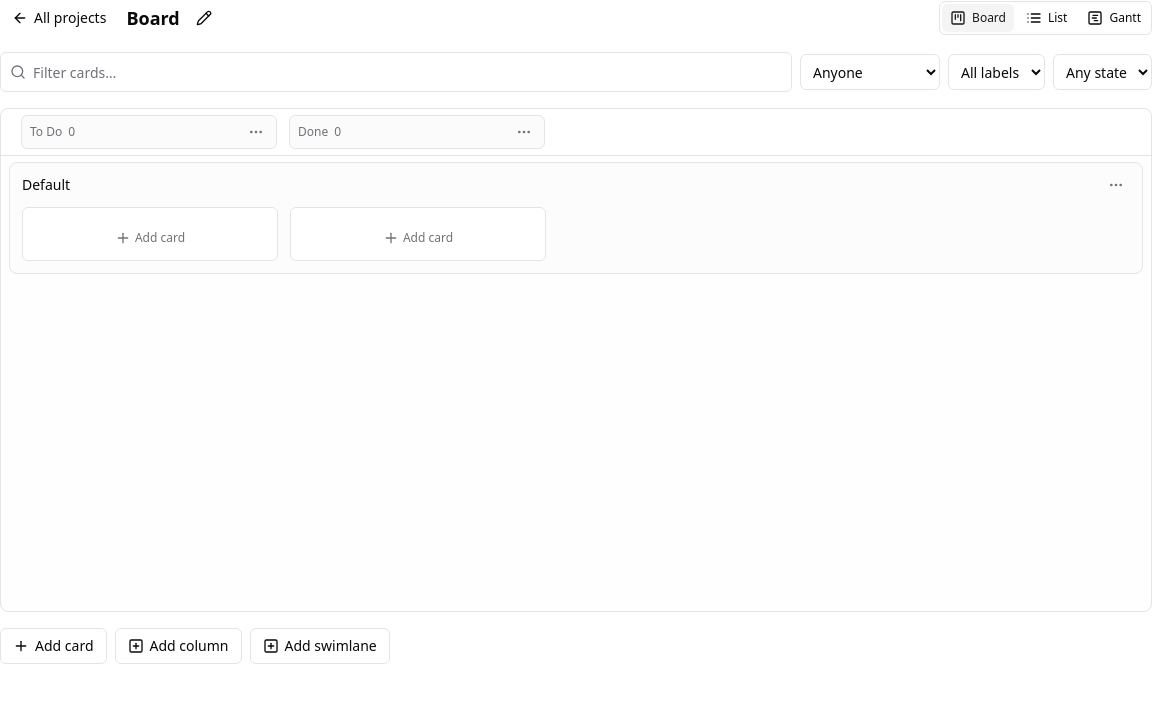
ProjectsBoard 从列表 / 甘特视图创建卡片 › 甘特视图下同样可以打开新建卡片对话框
Click the button "Gantt".
click(1114, 18)  # box [1079,4,1149,32]
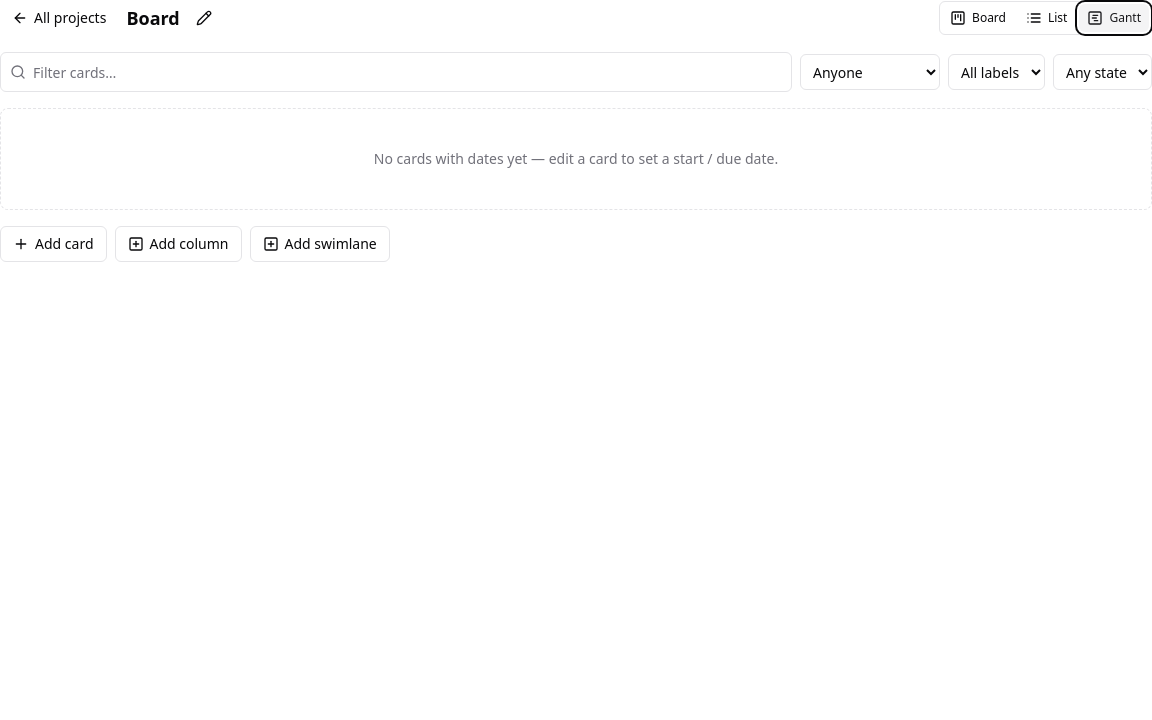
Click the button "Add card".
click(53, 244)  # box [0,226,106,262]
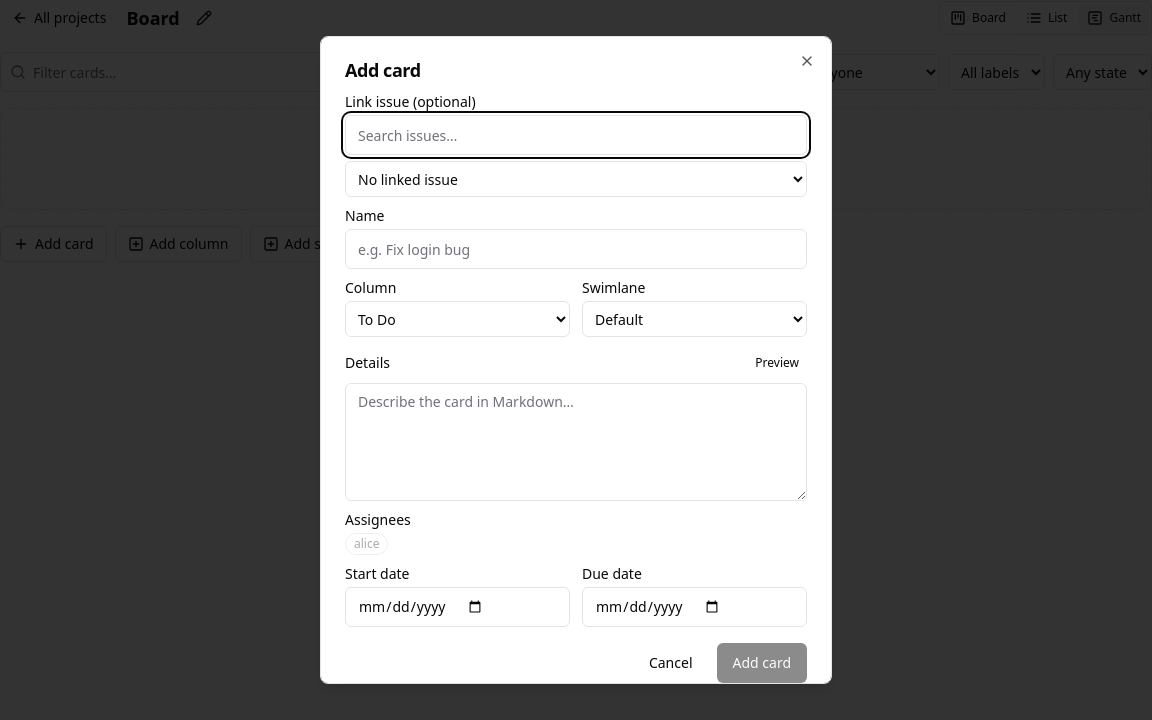
Expected: the dropdown labelled "Column" shows "To Do", [345,301,570,337]
Expected: the dropdown labelled "Swimlane" shows "Default", [582,301,807,337]
